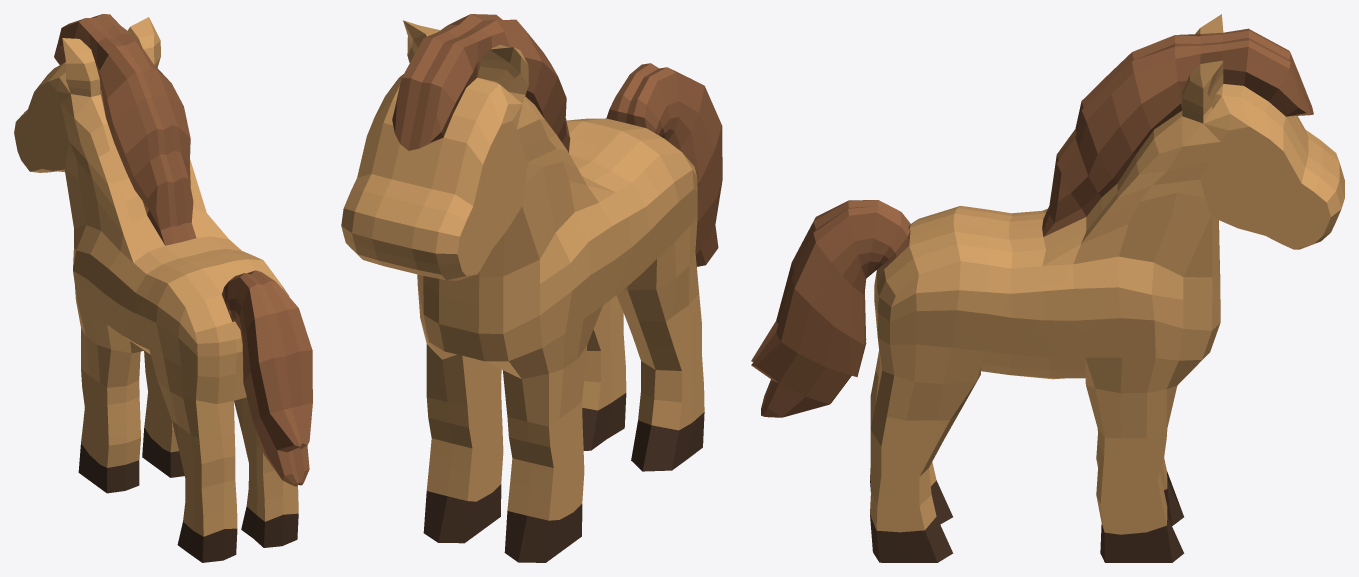
File: Horse.glb
3 renders of one model, left to right at view 1: azimuth 30°, elevation 25°; view 2: azimuth 150°, elevation 25°; view 3: azimuth 270°, elevation 25°, orthographic. The views are drawn at different scales.
Visible parts, largest first — view 1: Horse; view 2: Horse; view 3: Horse.
Part boxes in pixels (x1,y1,x2,y2): Horse: (14, 14, 312, 562); Horse: (341, 14, 722, 562); Horse: (751, 14, 1344, 562).
Bounding box in the file's own units: 0.6069 × 2 × 2.15.
